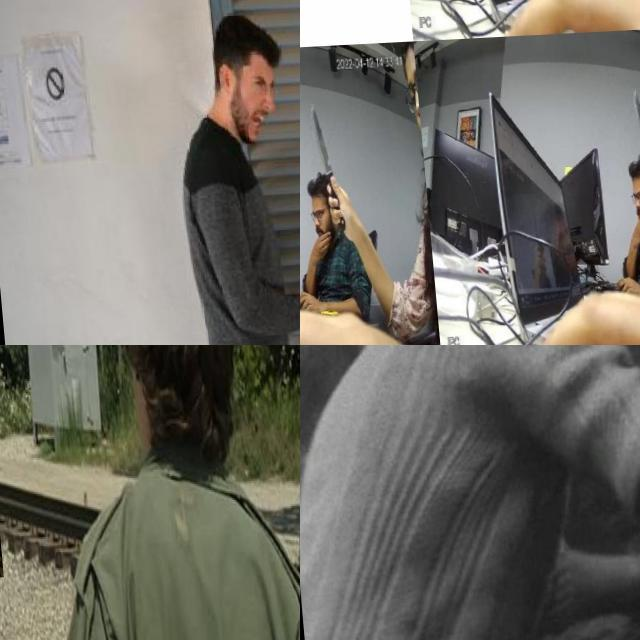-: (301, 102, 329, 192), (578, 0, 614, 38), (622, 95, 640, 168), (300, 0, 323, 56)
gun-knife-thesis - v11 Yolov5 augmented: (0, 438, 36, 583)
